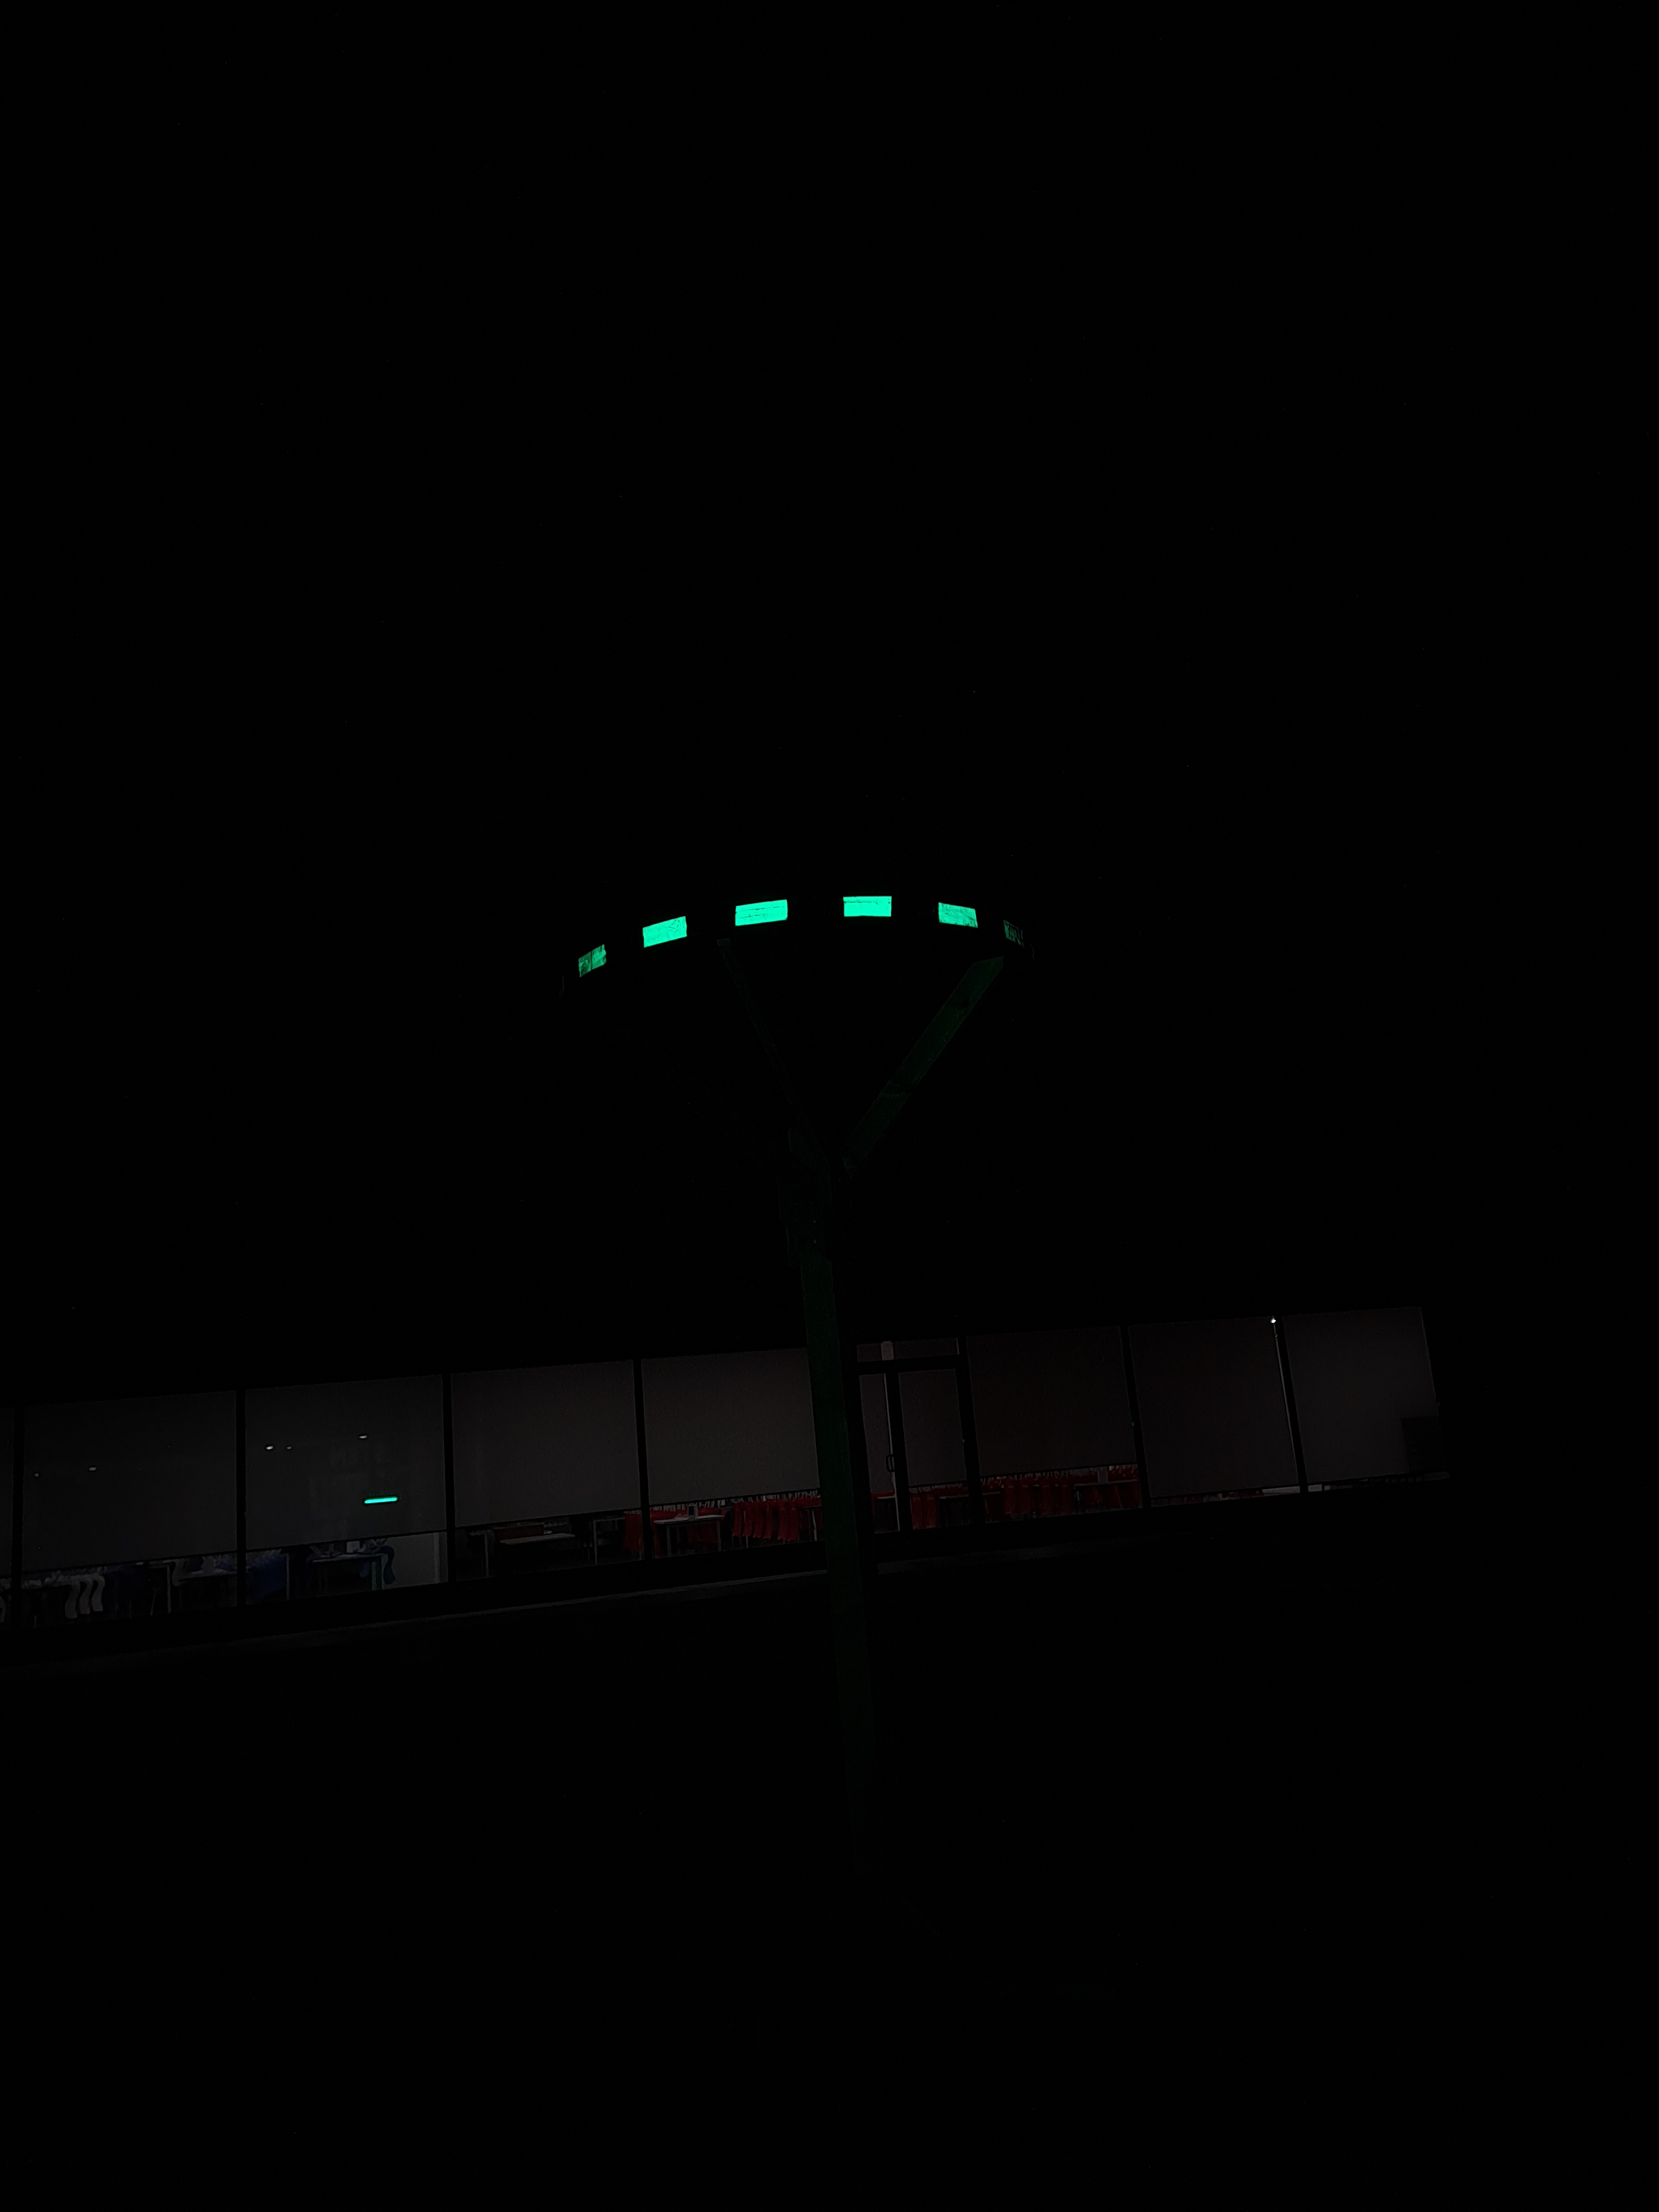hoop: (558, 897, 1030, 972)
